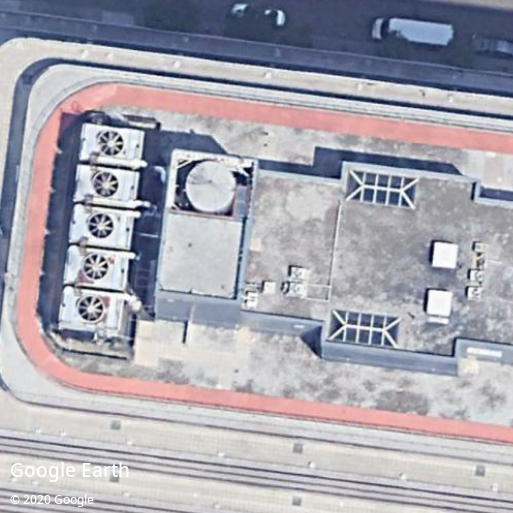Vent: (82, 253, 109, 281), (98, 130, 124, 156), (77, 296, 103, 322), (93, 172, 118, 197), (88, 214, 114, 238)
